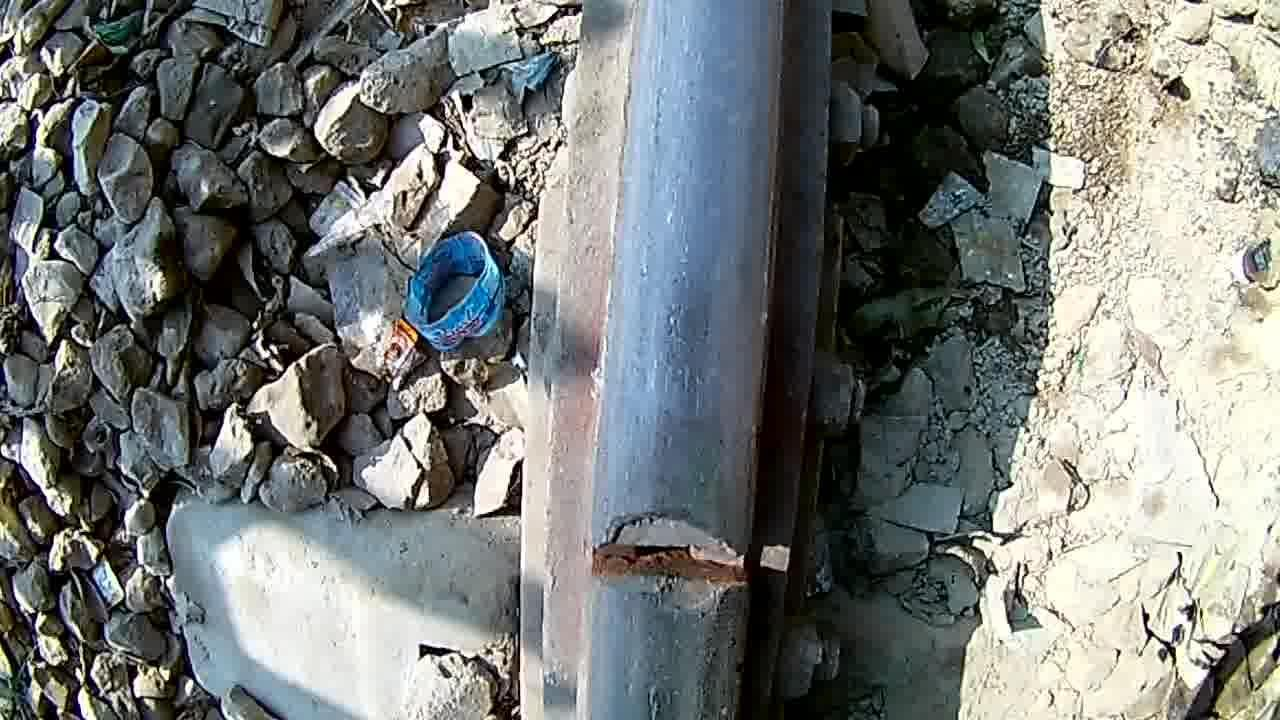crack: (574, 460, 782, 663)
